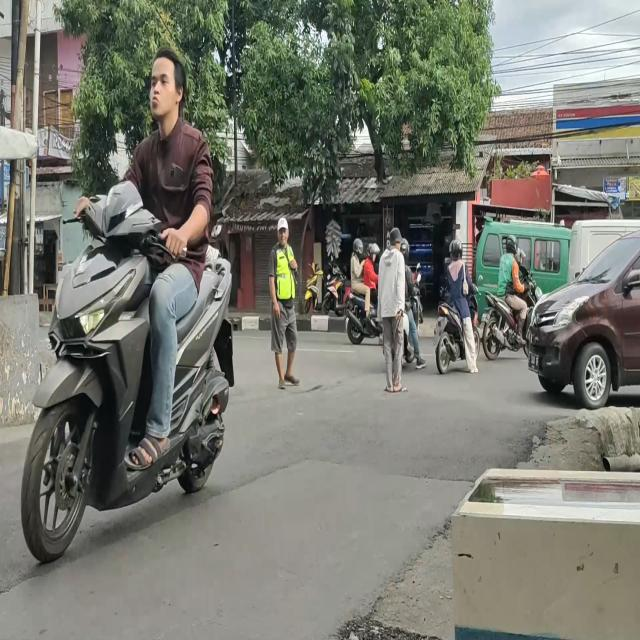helmet: (450, 240, 464, 262), (507, 232, 517, 252), (368, 242, 379, 260), (353, 236, 362, 255), (402, 240, 410, 260)
no-helmet: (146, 49, 182, 117)
